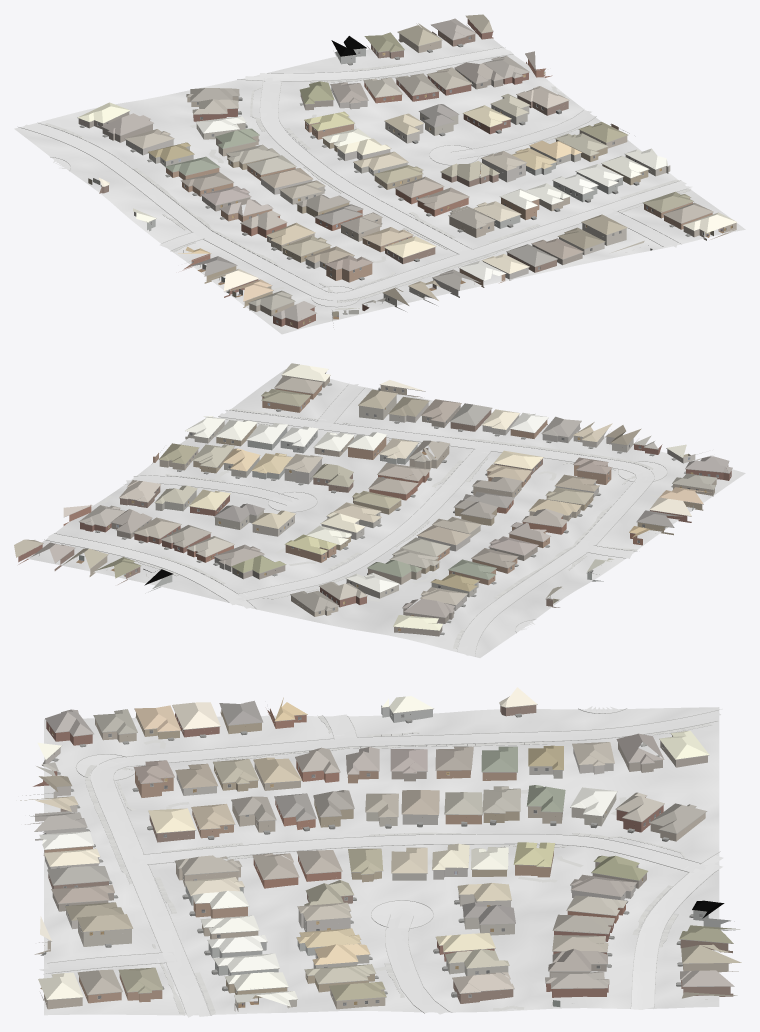
3 renders of one model, top to bottom at view 1: azimuth 30°, elevation 25°; view 2: azimuth 150°, elevation 25°; view 3: azimuth 270°, elevation 25°, orthographic. The views are drawn at different scales.
Parts seen in each view (by area): view 1: ground, roof, concrete, wall, wall_stucco, detail, curb, walk, wall_stone, glass; view 2: ground, roof, concrete, wall, wall_stucco, detail, curb, walk, wall_stone, glass; view 3: ground, roof, concrete, wall, wall_stucco, detail, curb, walk, wall_stone, glass.
Boxes of the visible parts, x1,y1,x2,y2 form: ground: (14, 28, 745, 334); roof: (78, 14, 737, 321); concrete: (22, 48, 691, 306); wall: (78, 19, 712, 328); wall_stucco: (147, 48, 736, 327); detail: (77, 21, 732, 324); curb: (18, 47, 688, 307); walk: (44, 63, 690, 302); wall_stone: (126, 87, 528, 297); glass: (97, 36, 704, 322); ground: (26, 369, 745, 657); roof: (14, 363, 732, 630); concrete: (48, 384, 666, 655); wall: (18, 384, 731, 636); wall_stucco: (145, 372, 712, 616); detail: (23, 372, 732, 634); curb: (44, 384, 667, 655); walk: (97, 408, 664, 648); wall_stone: (214, 415, 598, 610); glass: (133, 373, 730, 616); ground: (44, 707, 719, 1015); roof: (20, 687, 741, 1006); concrete: (39, 706, 723, 1017); wall: (33, 705, 738, 1003); wall_stucco: (25, 705, 735, 1011); detail: (22, 703, 739, 1008); curb: (43, 708, 721, 1015); walk: (84, 715, 711, 1015); wall_stone: (35, 749, 635, 931); glass: (43, 711, 702, 1005).
Size of the model in its own units: 265 by 17.64 by 271.
